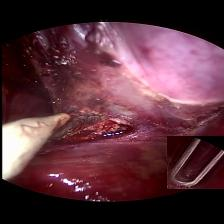Grasper: (166, 136, 224, 189)
Hook: (0, 108, 84, 180)
